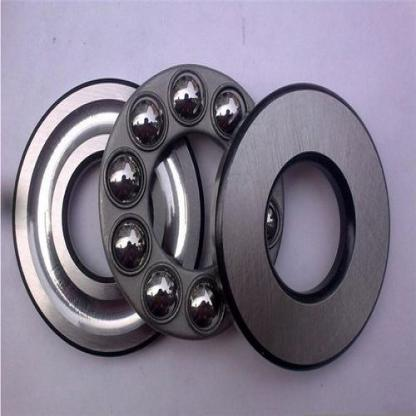FOD: (12, 62, 391, 368)
